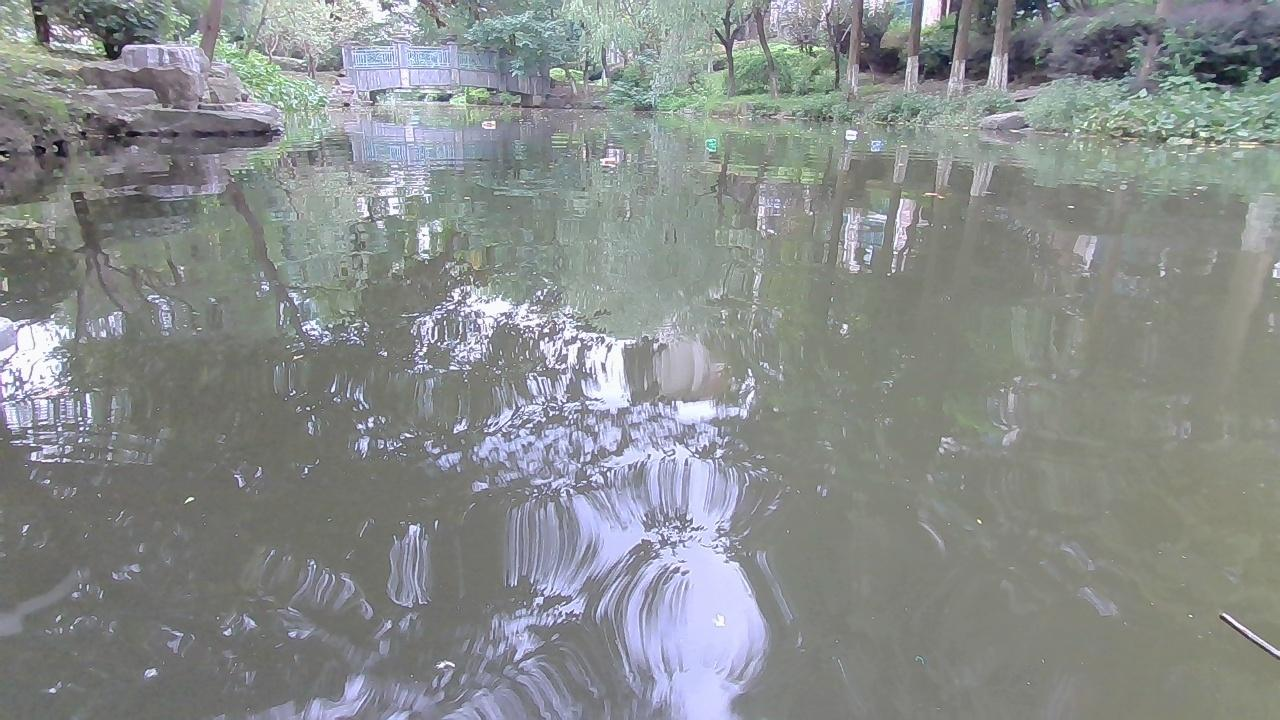bottle: (479, 118, 495, 127), (843, 126, 856, 136), (870, 137, 880, 147), (703, 137, 716, 144)
